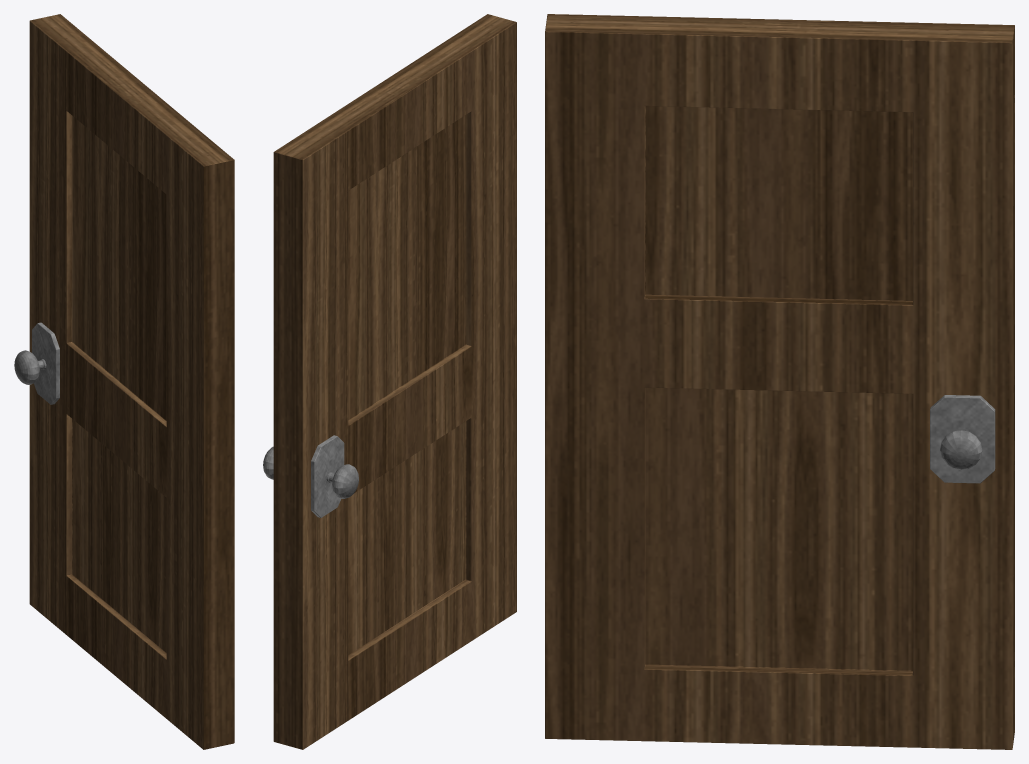
The model's file is door_2.glb.
3 renders of one model, left to right at view 1: azimuth 30°, elevation 25°; view 2: azimuth 150°, elevation 25°; view 3: azimuth 270°, elevation 25°, orthographic. The views are drawn at different scales.
Visible parts, largest first — view 1: Door, Handle; view 2: Door, Handle; view 3: Door, Handle.
Part boxes in pixels (x1,y1,x2,y2): Door: (29, 14, 234, 749); Handle: (14, 322, 59, 404); Door: (273, 14, 516, 749); Handle: (263, 435, 358, 517); Door: (545, 14, 1014, 749); Handle: (930, 395, 995, 483).
Size of what is drawn, in the model's own units: 0.4026 by 2.5 by 1.51.
3 materials, 3 textured.
